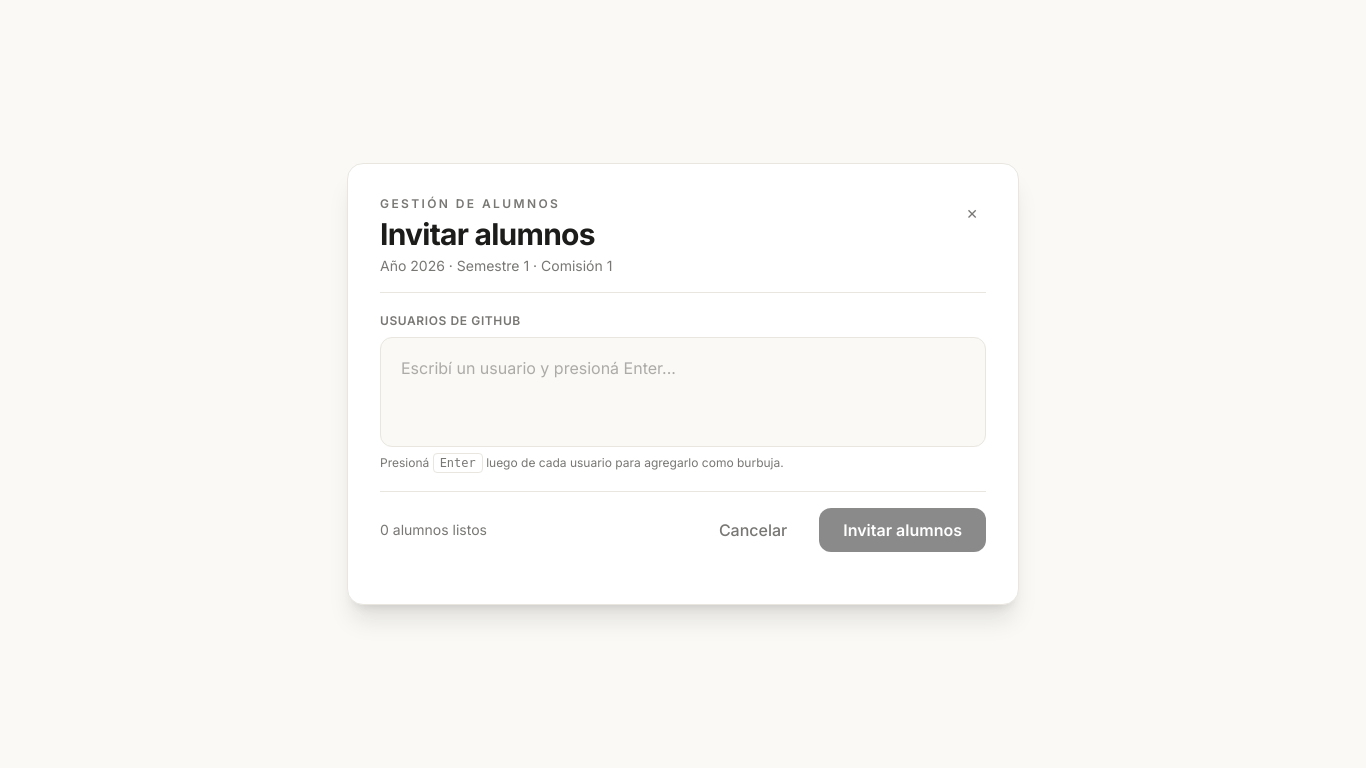
Test: InvitarAlumnosModal › Caso alumno ya es docente del curso (ALUMNO_ES_DOCENTE_DEL_CURSO): muestra error inline y toast
This screenshot has width=1366, height=768.
Type "profe-alberto" into the field with test id "username-input" at [683, 368], box [393,350,973,386]
Then press Enter
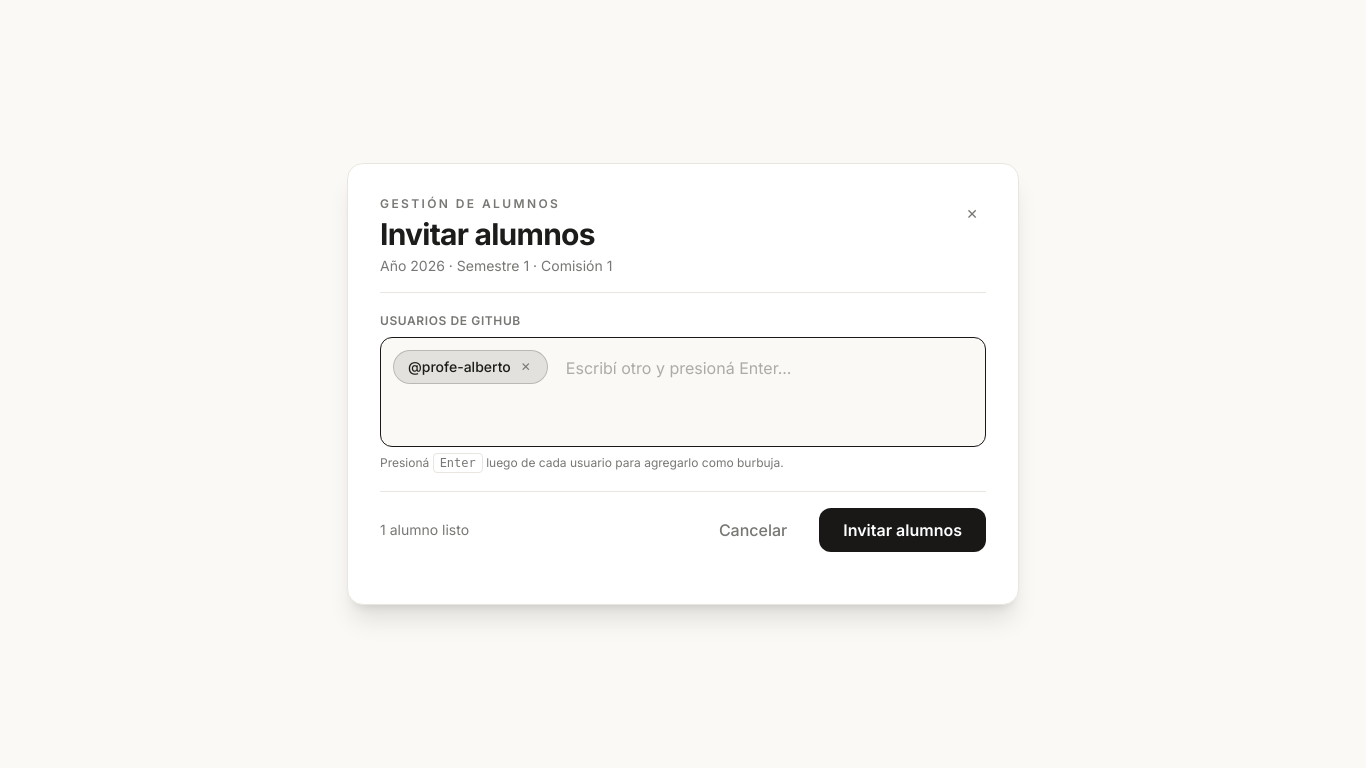
Click the button with test id "submit-button" at [903, 530], box [819,508,986,552]
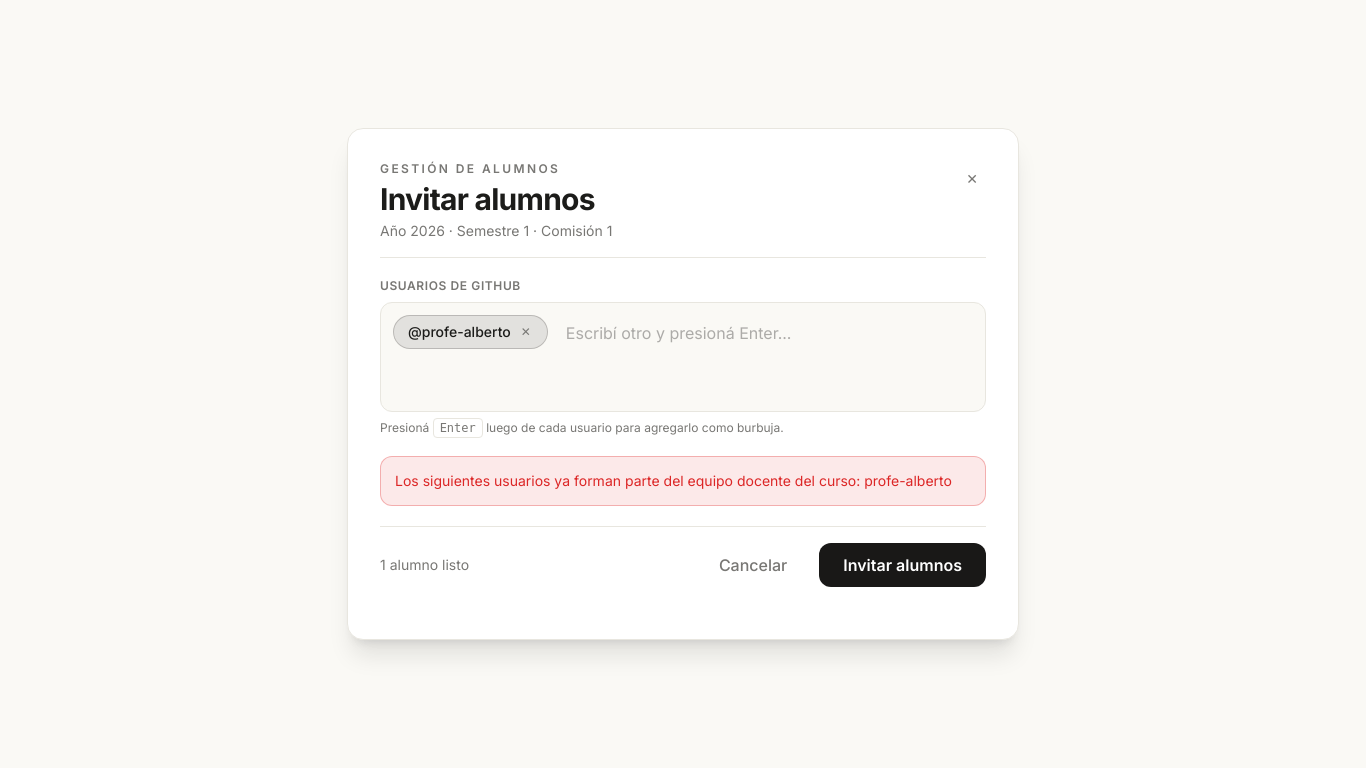
Expected: the element with test id "error-message" shows "Los siguientes usuarios ya forman parte del equipo docente del curso: profe-alberto", [395,472,952,489]
